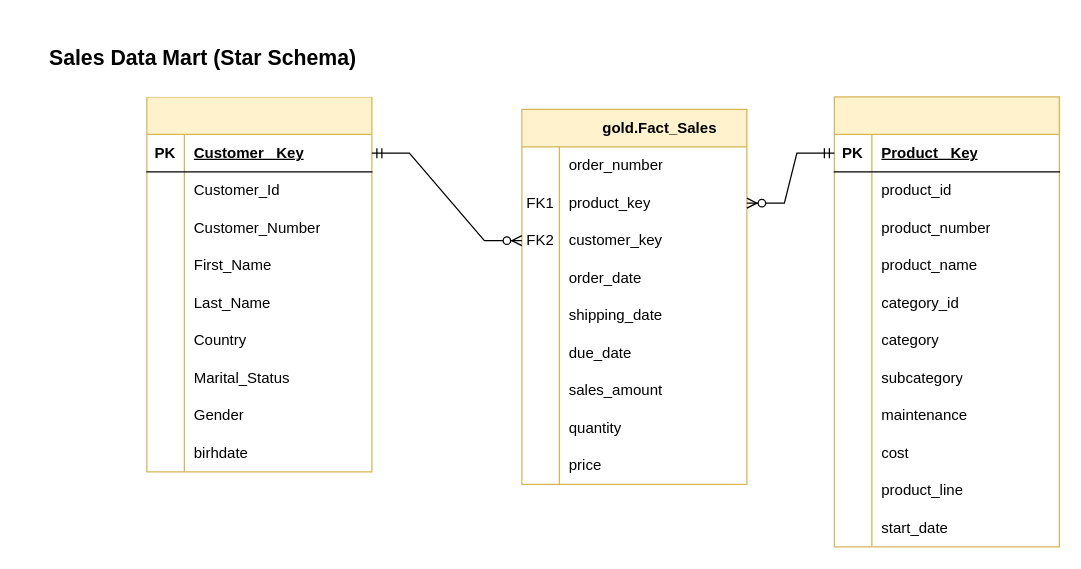
The diagram is 1081 pixels wide and 569 high, and some of its shapes have lost their labels. Each missing label, with the box of its shape:
gold.dim_Customers: (146, 96, 372, 472)
gold.dim_Products: (833, 96, 1059, 547)
